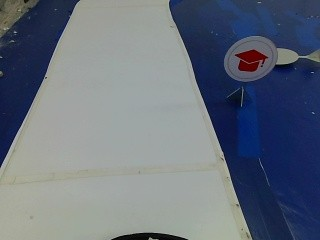school: (225, 34, 272, 81)
